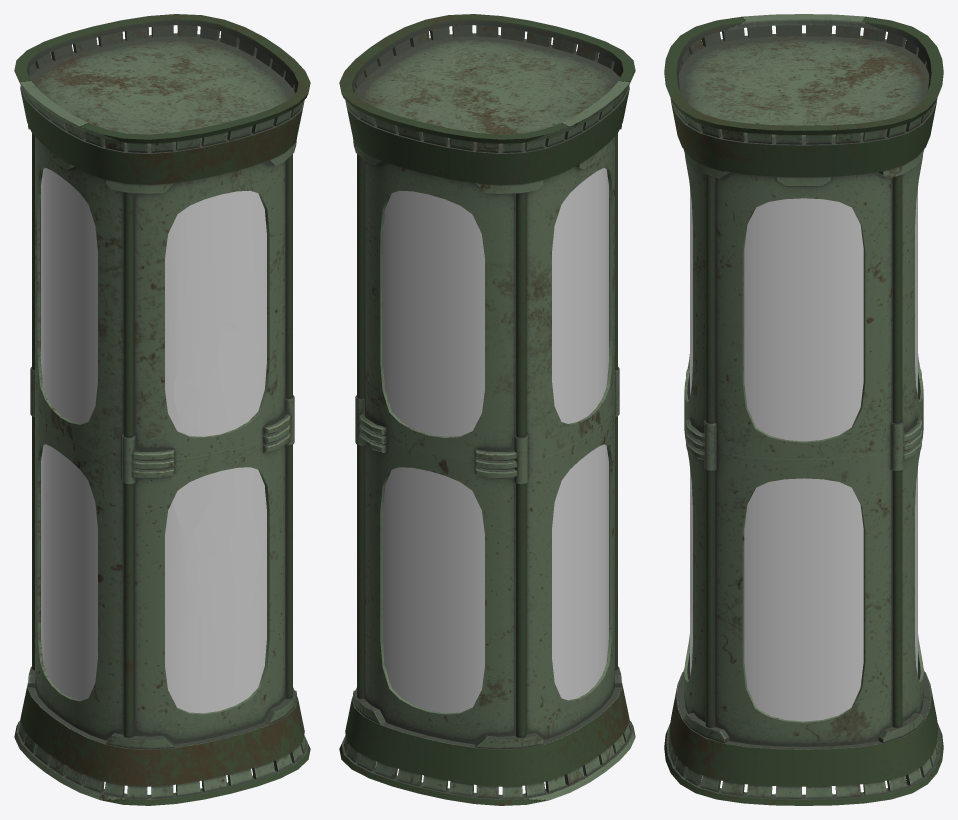
File: BrokenGlasswithTube.fbx
3 views of the same model, side by side, from view 1: azimuth 30°, elevation 25°; view 2: azimuth 150°, elevation 25°; view 3: azimuth 270°, elevation 25° (orthographic).
Visible parts, largest first — view 1: Cube.048, Cube.056, Cube.050, Cube.046, Cube.049, Cube.047, Cube.043; view 2: Cube.048, Cube.056; view 3: Cube.048, Cube.056.
Boxes of the visible parts, x1=… form: Cube.048: x1=14, y1=14, x2=310, y2=805; Cube.056: x1=41, y1=168, x2=266, y2=713; Cube.050: x1=188, y1=469, x2=266, y2=632; Cube.046: x1=173, y1=321, x2=266, y2=486; Cube.049: x1=186, y1=351, x2=266, y2=568; Cube.047: x1=165, y1=383, x2=218, y2=543; Cube.043: x1=174, y1=323, x2=218, y2=396; Cube.048: x1=339, y1=14, x2=635, y2=805; Cube.056: x1=383, y1=168, x2=608, y2=713; Cube.048: x1=664, y1=14, x2=943, y2=805; Cube.056: x1=690, y1=188, x2=917, y2=721.
Size of the model in its own units: 0.9977 by 2.69 by 1.01.
